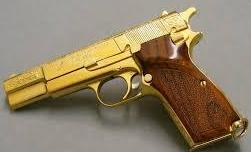gun: (1, 1, 251, 152)
